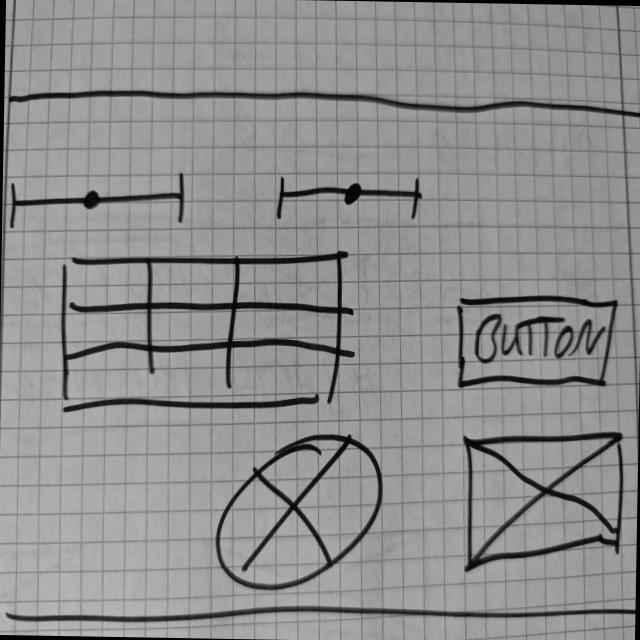button: (454, 291, 620, 396)
image: (213, 432, 387, 598), (462, 428, 631, 578)
slider: (7, 168, 191, 234), (274, 171, 424, 226)
table: (58, 244, 347, 418)
